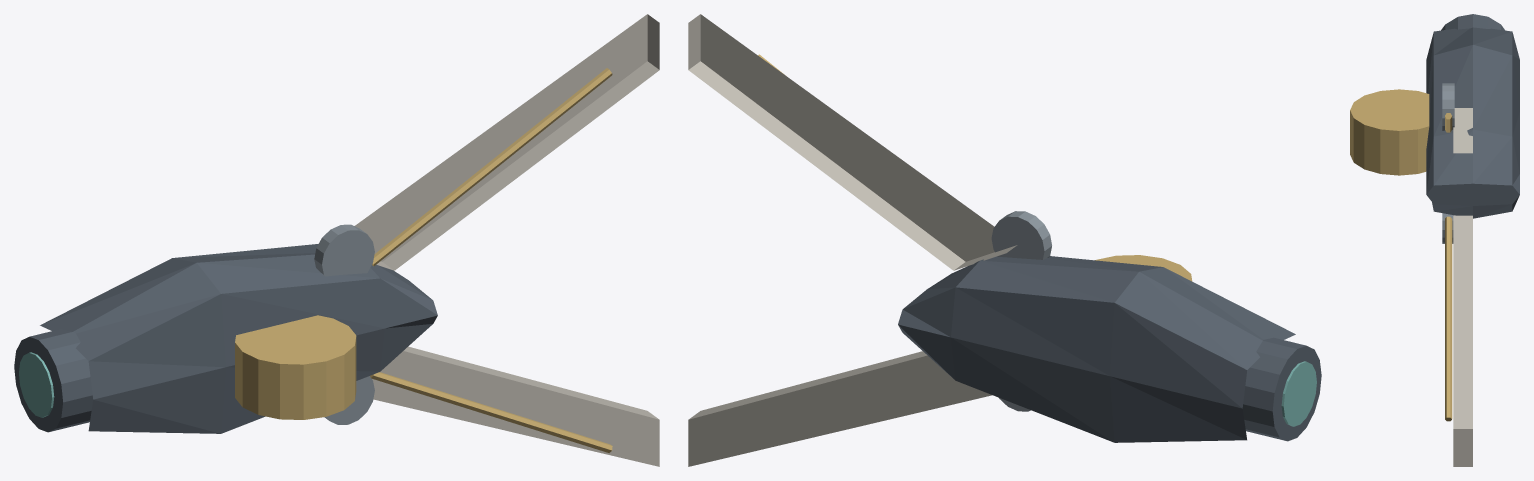
The model's file is 07_scissorwake.glb.
The picture shows the model from 3 angles, left to right: view 1: azimuth 30°, elevation 25°; view 2: azimuth 150°, elevation 25°; view 3: azimuth 270°, elevation 25°; orthographic projection. The views are drawn at different scales.
Parts seen in each view (by area): view 1: HULL_001, part_005, part_002, part_008, part_009, part_006, part_007, part_003, part_010, part_004; view 2: HULL_001, part_005, part_002, part_009, part_007, part_010, part_008; view 3: HULL_001, part_008, part_002, part_003, part_005, part_009, part_007.
Boxes of the visible parts, <box> form: HULL_001: <box>40,244,437,433</box>; part_005: <box>354,14,659,270</box>; part_002: <box>372,346,659,466</box>; part_008: <box>235,315,356,419</box>; part_009: <box>14,329,93,432</box>; part_006: <box>372,68,612,266</box>; part_007: <box>314,224,374,276</box>; part_003: <box>370,372,612,452</box>; part_010: <box>19,352,54,417</box>; part_004: <box>324,376,374,424</box>; HULL_001: <box>898,256,1295,442</box>; part_005: <box>688,14,1017,270</box>; part_002: <box>688,351,991,466</box>; part_009: <box>1242,337,1321,441</box>; part_007: <box>991,211,1051,259</box>; part_010: <box>1281,361,1316,426</box>; part_008: <box>1095,255,1192,281</box>; HULL_001: <box>1426,27,1519,218</box>; part_008: <box>1350,89,1429,175</box>; part_002: <box>1453,215,1472,466</box>; part_003: <box>1445,216,1452,421</box>; part_005: <box>1453,108,1472,153</box>; part_009: <box>1441,14,1505,30</box>; part_007: <box>1442,83,1454,130</box>.
Bounding box in the file's own units: 23.08 × 16 × 6.9.
